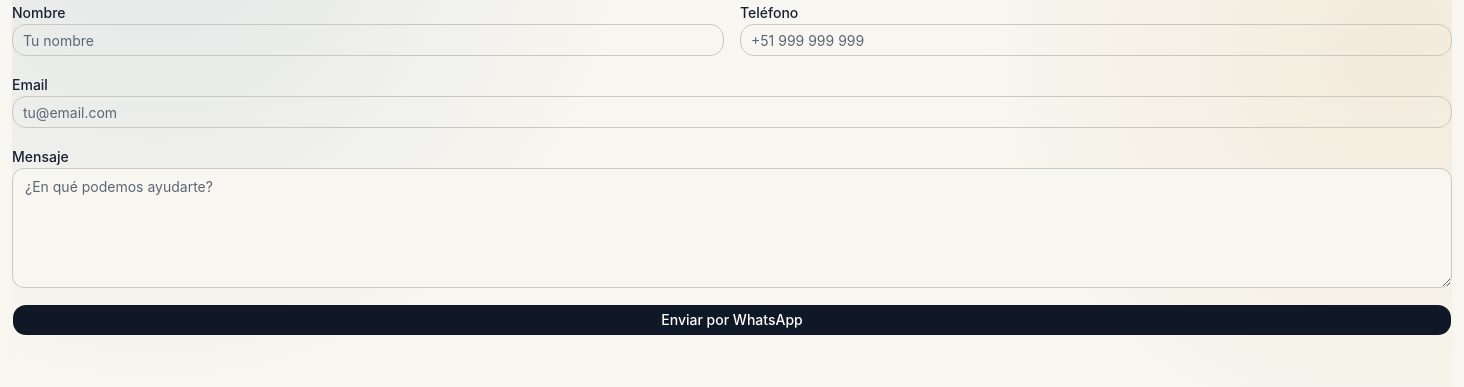
Test: ContactForm › abre WhatsApp solamente después de completar el formulario
This screenshot has width=1464, height=387.
Click the button "Enviar por WhatsApp". click: (732, 320)
box: [12,304,1452,336]
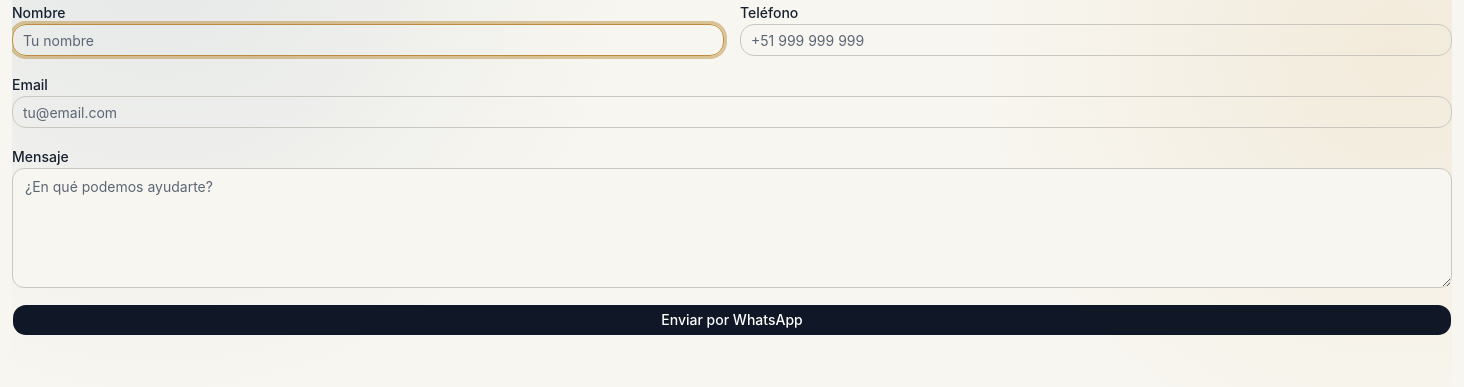
Type "Ana Torres" into the field labelled "Nombre". click: (368, 40)
box: [12,24,724,56]
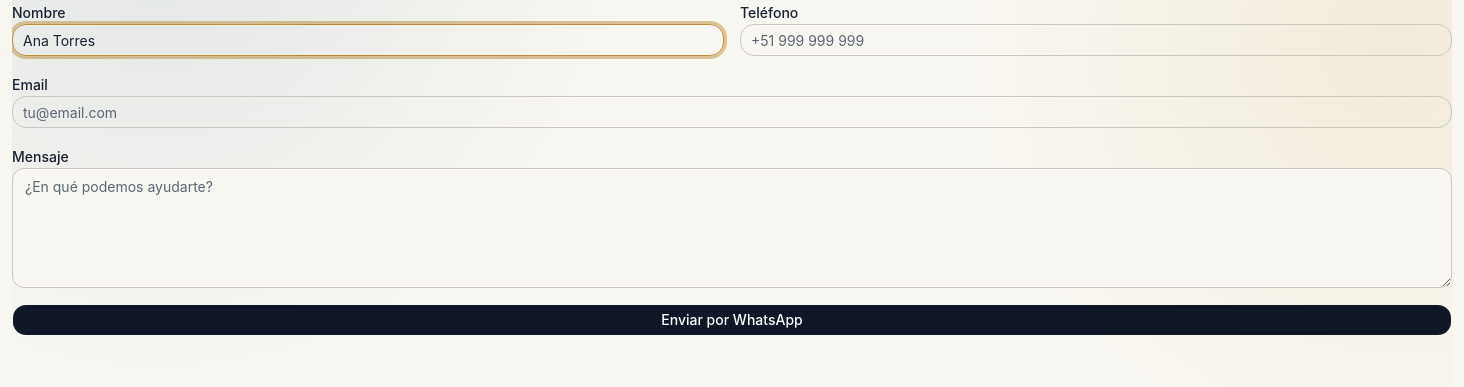
Type "999999999" into the field labelled "Teléfono". click: (1096, 40)
box: [740,24,1452,56]
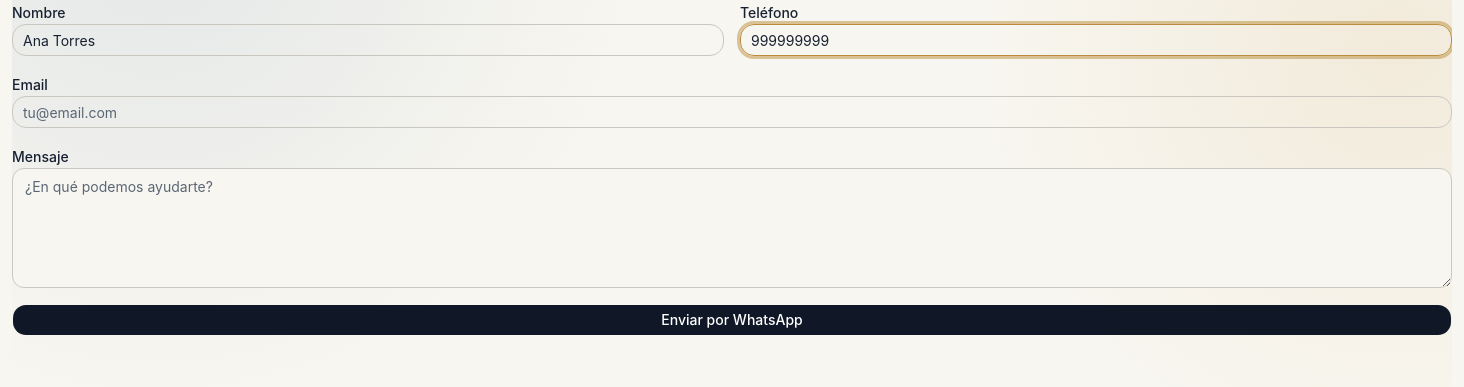
Type "ana@example.com" into the field labelled "Email". click: (732, 112)
box: [12,96,1452,128]
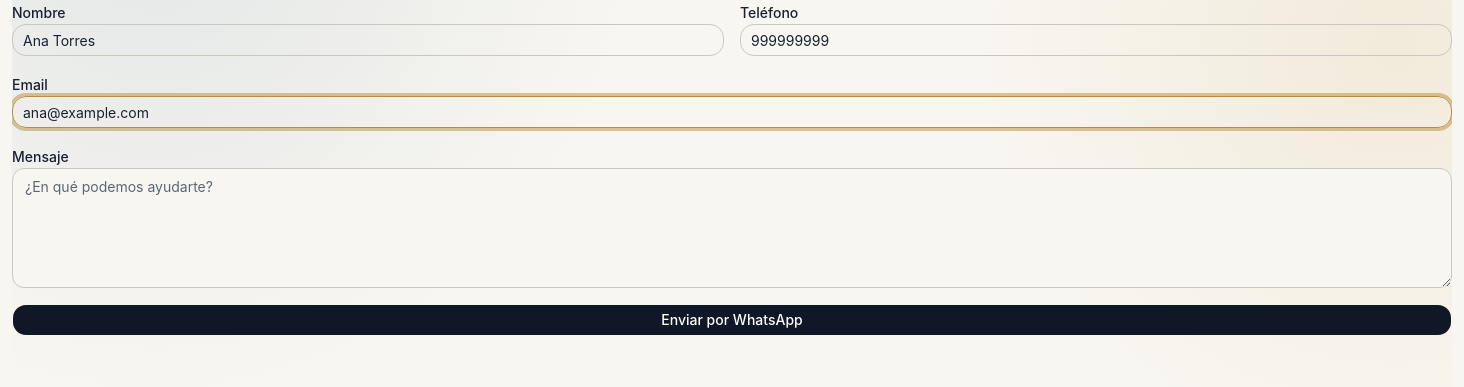
Type "Quiero información de clases." into the text box labelled "Mensaje". click: (732, 228)
box: [12,168,1452,288]
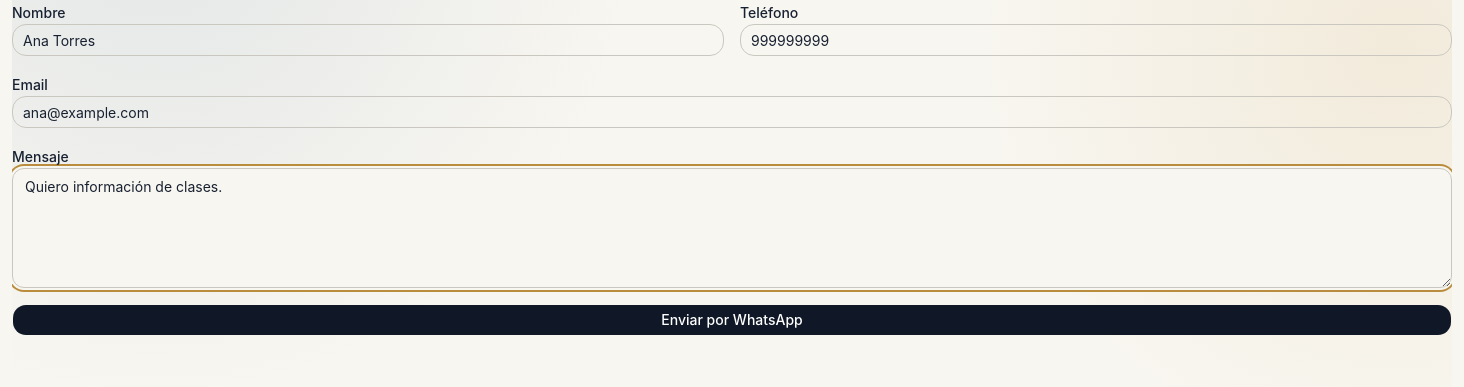
Click the button "Enviar por WhatsApp". click: (732, 320)
box: [12,304,1452,336]
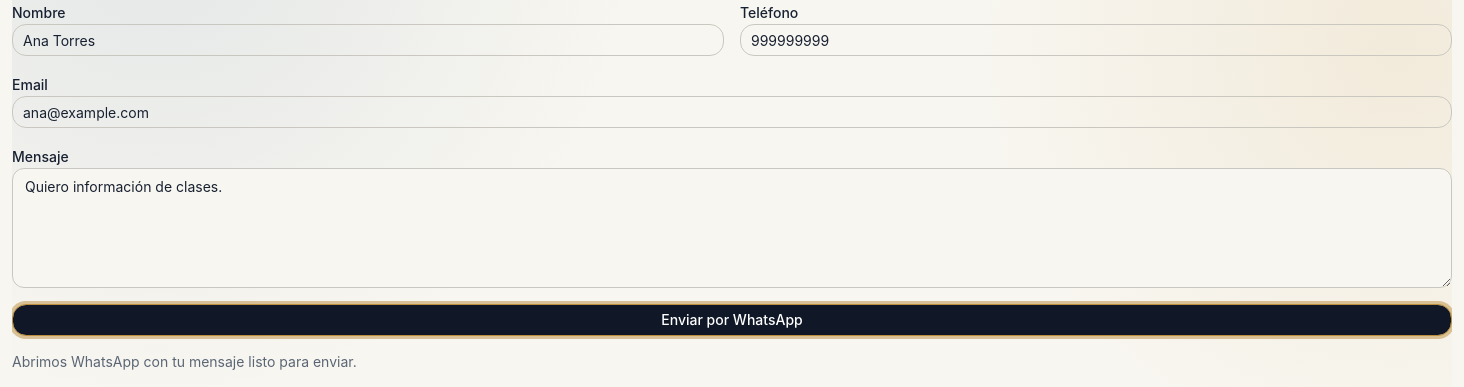
Now the message shows "Abrimos WhatsApp", box [12,353,357,370]
